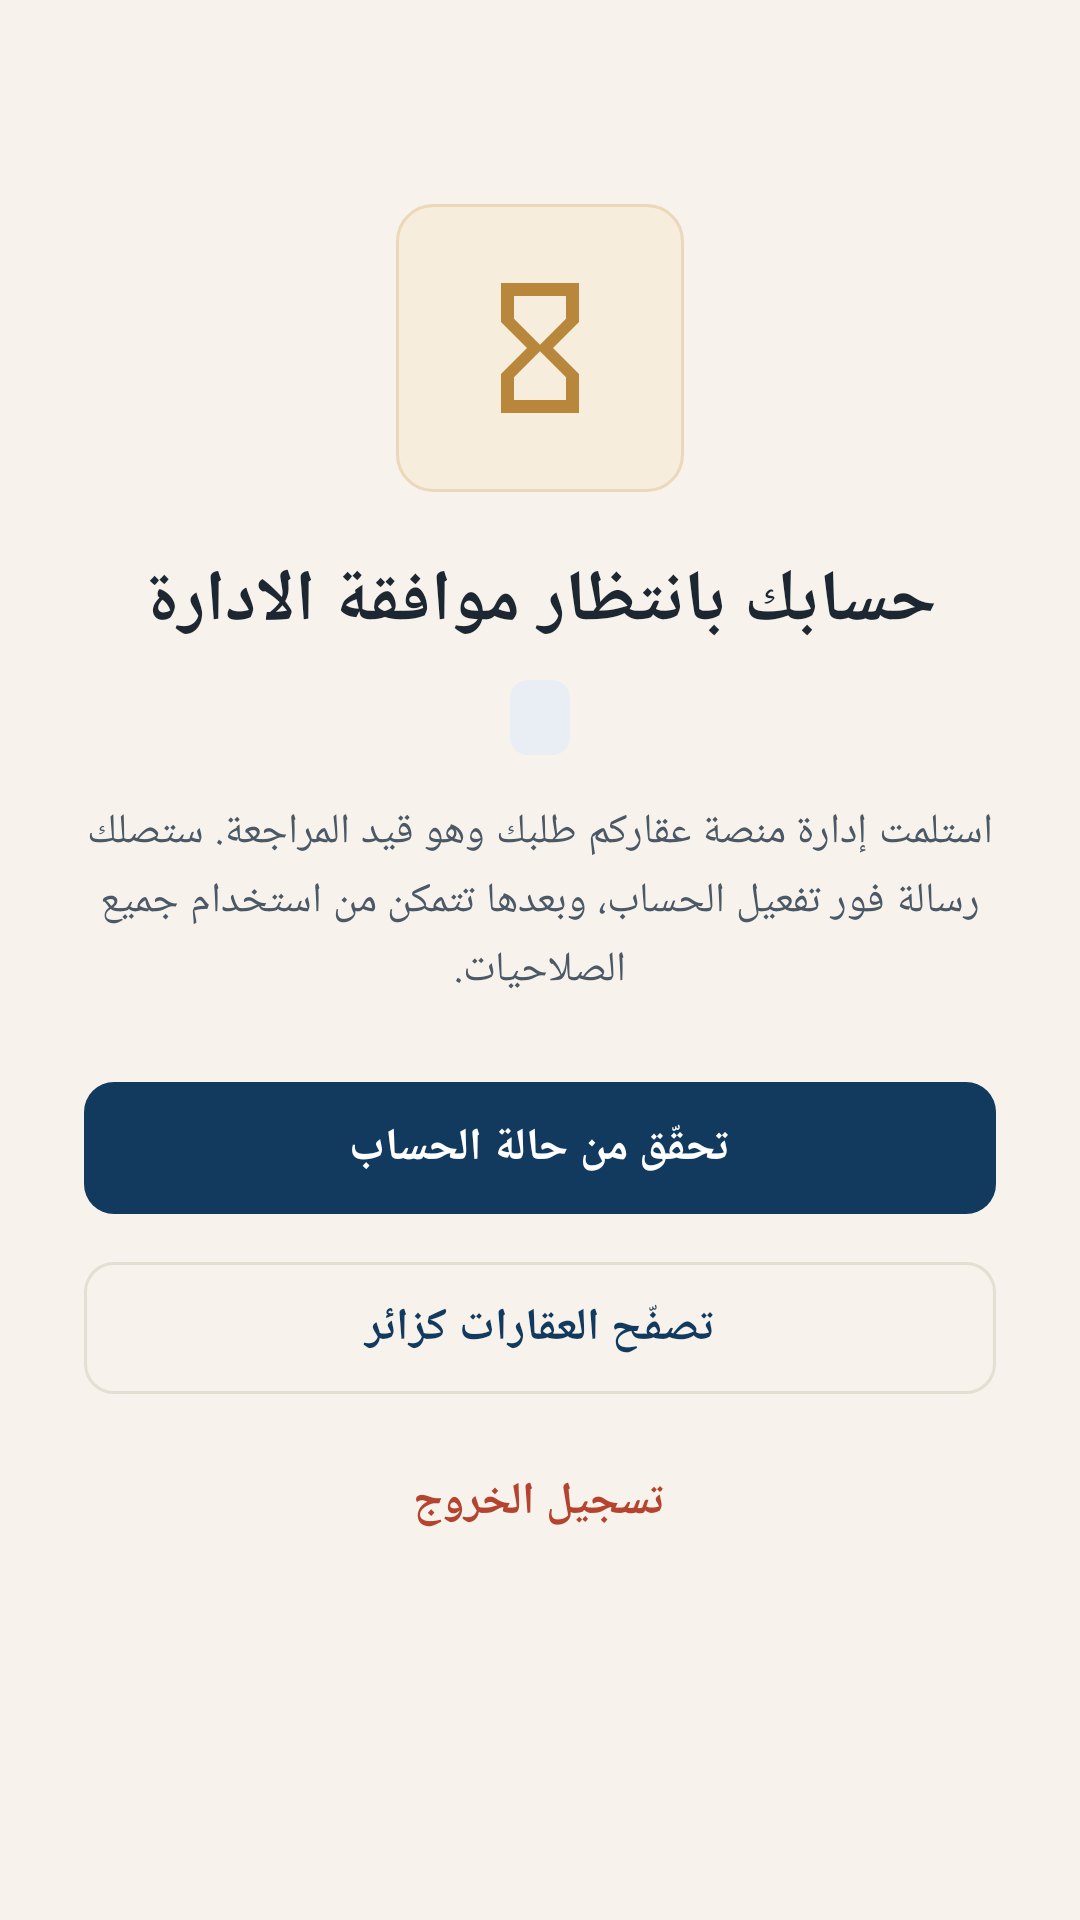

Named icons in this screenshot (1080*1920) and their bounding boxes, (x1, y1, x2, y2):
hourglass: (396, 204, 684, 492)
